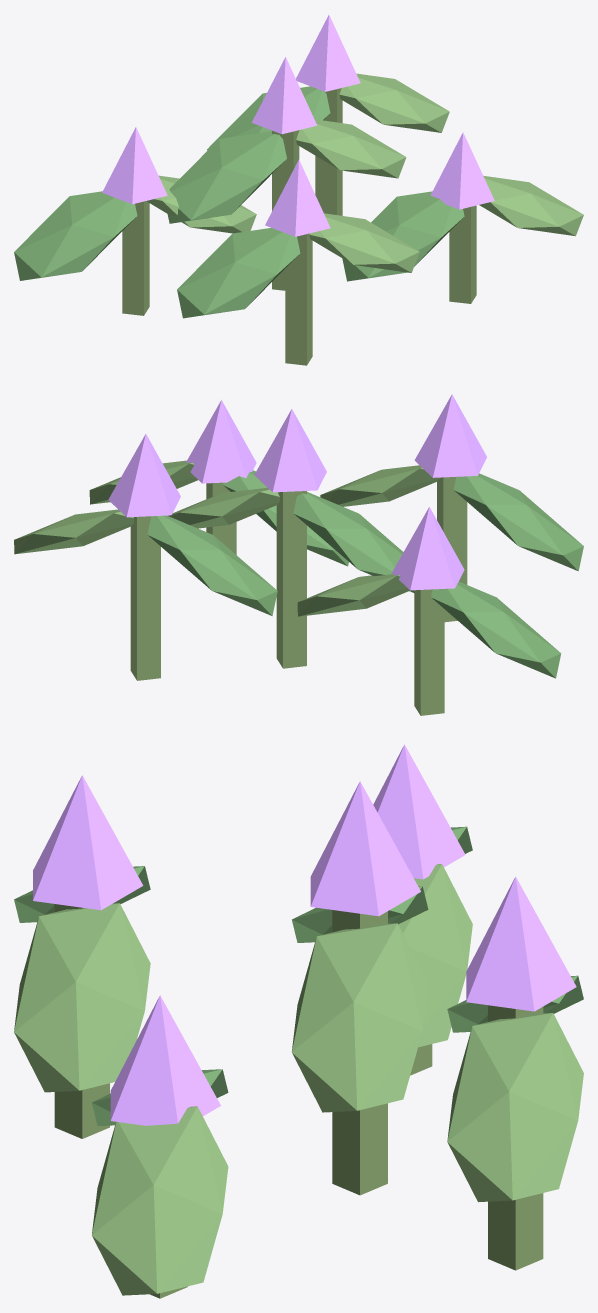
The model's file is herb_patch.glb.
3 renders of one model, top to bottom at view 1: azimuth 30°, elevation 25°; view 2: azimuth 150°, elevation 25°; view 3: azimuth 270°, elevation 25°, orthographic. The views are drawn at different scales.
Visible parts, largest first — view 1: leaf_3_0, leaf_0_0, leaf_4_0, leaf_2_0, leaf_4_1, leaf_1_1, leaf_3_1, leaf_2_1, stalk_3, stalk_0, bud_3, bud_0 (+8 smaller); view 2: leaf_1_0, leaf_3_0, leaf_0_0, stalk_4, stalk_1, leaf_4_0, stalk_0, bud_4, bud_1, bud_3, bud_0, bud_2 (+8 smaller); view 3: leaf_4_1, leaf_1_1, leaf_3_1, leaf_2_1, bud_4, bud_1, bud_3, bud_2, leaf_0_1, bud_0, stalk_4, stalk_1 (+5 smaller).
Boxes of the visible parts, box(x1,y1,x2,y2) form: leaf_3_0: box(177, 228, 300, 318); leaf_0_0: box(14, 191, 137, 280); leaf_4_0: box(167, 131, 286, 223); leaf_2_0: box(342, 191, 464, 281); leaf_4_1: box(296, 119, 406, 178); leaf_1_1: box(339, 73, 449, 132); leaf_3_1: box(309, 213, 419, 272); leaf_2_1: box(479, 175, 583, 236); stalk_3: box(285, 233, 312, 365); stalk_0: box(122, 201, 149, 315); bud_3: box(265, 160, 330, 236); bud_0: box(102, 127, 167, 204); leaf_1_0: box(147, 515, 277, 615); leaf_3_0: box(453, 473, 583, 571); leaf_0_0: box(431, 581, 561, 678); stalk_4: box(276, 491, 306, 668); stalk_1: box(130, 516, 160, 680); leaf_4_0: box(293, 492, 414, 592); stalk_0: box(414, 589, 444, 715); bud_4: box(254, 409, 326, 492); bud_1: box(108, 434, 180, 517); bud_3: box(414, 394, 486, 477); bud_0: box(392, 507, 464, 590); bud_2: box(186, 400, 256, 483); leaf_4_1: box(292, 923, 428, 1112); leaf_1_1: box(447, 1013, 583, 1202); leaf_3_1: box(14, 903, 150, 1092); leaf_2_1: box(92, 1106, 228, 1295); bud_4: box(310, 781, 420, 916); bud_1: box(466, 876, 576, 1011); bud_3: box(33, 775, 143, 910); bud_2: box(110, 995, 220, 1125); leaf_0_1: box(398, 864, 472, 1047); bud_0: box(373, 744, 465, 879); stalk_4: box(332, 910, 387, 1195); stalk_1: box(488, 1005, 543, 1270).
Size of the model in its own units: 0.8994 by 0.4 by 0.513.
